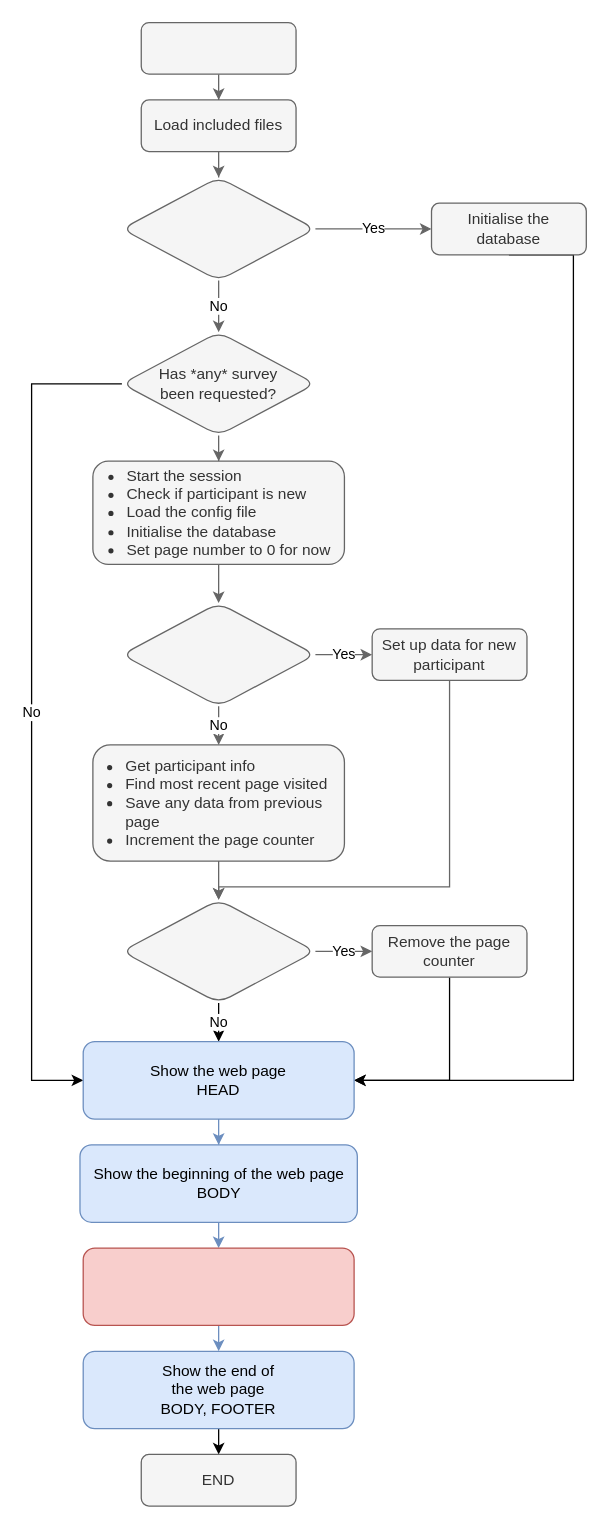
This 609x1529 diagram has some shape labels left out. Each missing label, with the centre of its shape:
"Has the preview module been selected?" belongs at point (218, 950).
"Has the survey data page been requested?" belongs at point (218, 228).
"New participant?" belongs at point (218, 654).
"Show the appropriate survey page or data page" belongs at point (218, 1286).
"START" belongs at point (218, 47).
